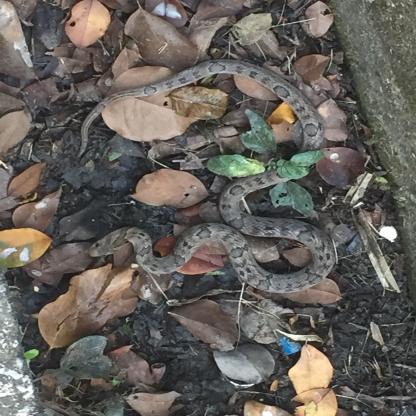snakes: (85, 214, 348, 295), (203, 58, 321, 207)
